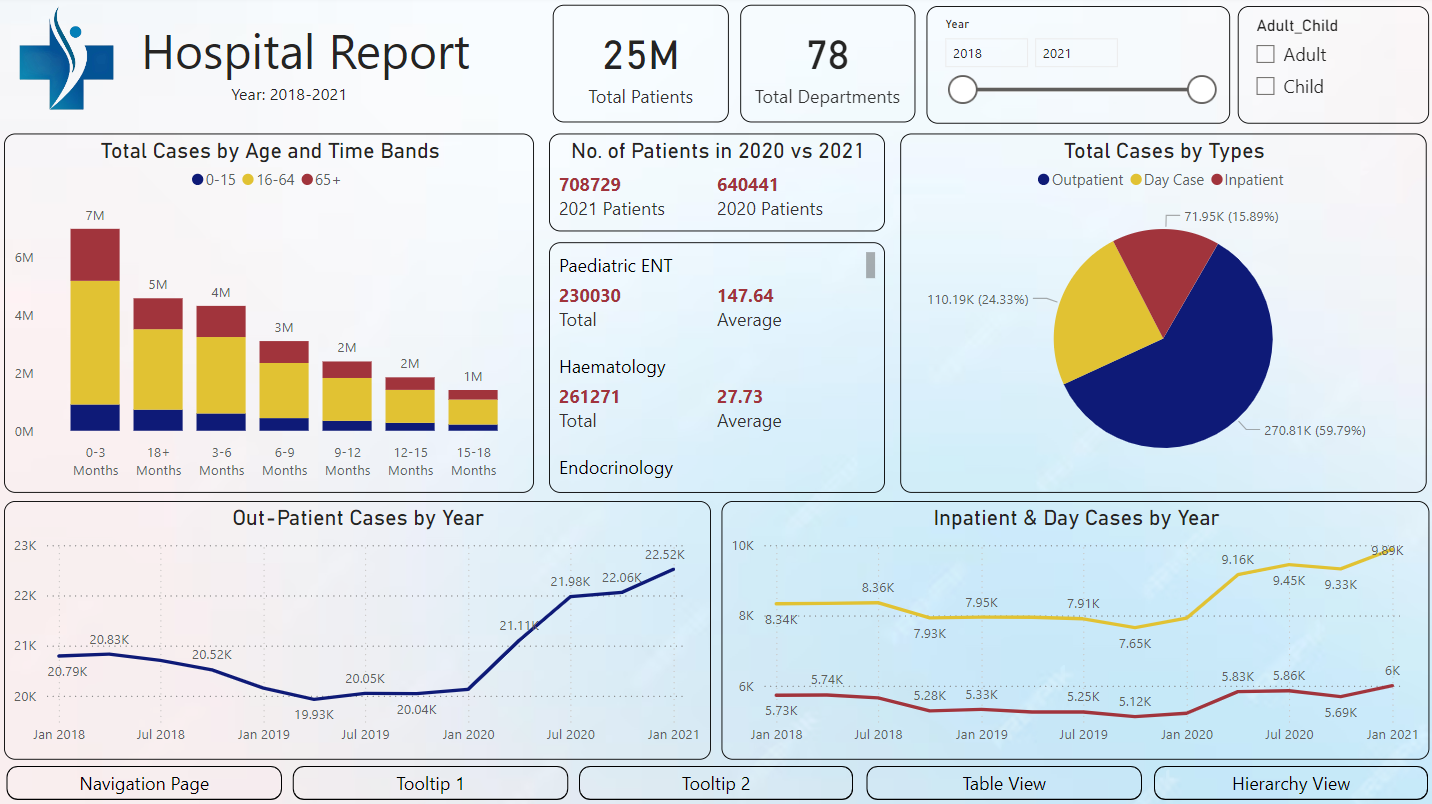

This screenshot's page, from the dashboard's own definition file:
{"tool":"powerbi","page":{"name":"Dashboard","canvas":[1280,720],"ordinal":1},"visuals":[{"type":"pieChart","title":"Total Cases by Types","fields":{"Category":["Overall Patient Data.Case_Type"],"Y":["CountNonNull(Overall Patient Data.Case_Type)"]},"box":[802.5,122.7,468.7,320.2],"z":0},{"type":"shape","box":[1029,686,244.2,30.2],"z":0,"group":"g1"},{"type":"card","fields":{"Values":["Measure Table.total Patient"]},"box":[493,8.1,157,105],"z":1000,"group":"g2"},{"type":"columnChart","title":"Total Cases by Age and Time Bands","fields":{"Category":["Overall Patient Data.Time_Bands"],"Y":["Sum(Overall Patient Data.Total)"],"Series":["Overall Patient Data.Age_Profile"]},"box":[4.9,122.7,472.4,320.2],"z":1000},{"type":"shape","box":[772.2,686,245.3,30.2],"z":1000,"group":"g1"},{"type":"multiRowCard","fields":{"Values":["Overall Patient Data.Specialty_Name","Sum(Overall Patient Data.Total)","Avg(Overall Patient Data.Total)"]},"box":[489.6,219.6,299.4,223.3],"z":2000},{"type":"shape","box":[517.2,686,244.2,30.2],"z":2000,"group":"g1"},{"type":"lineChart","title":"Inpatient & Day Cases by Year","fields":{"Category":["Overall Patient Data.Archive_Date.Variation.Date Hierarchy.Year","Overall Patient Data.Archive_Date.Variation.Date Hierarchy.Quarter","Overall Patient Data.Archive_Date.Variation.Date Hierarchy.Month","Overall Patient Data.Archive_Date.Variation.Date Hierarchy.Day"],"Series":["Overall Patient Data.Case_Type"],"Y":["CountNonNull(Overall Patient Data.Case_Type)"]},"box":[642.9,450,630.7,230],"z":3000},{"type":"shape","box":[6.9,686,245.3,30.2],"z":3000,"group":"g1"},{"type":"lineChart","title":"Out-Patient Cases by Year","fields":{"Category":["Overall Patient Data.Archive_Date.Variation.Date Hierarchy.Year","Overall Patient Data.Archive_Date.Variation.Date Hierarchy.Quarter","Overall Patient Data.Archive_Date.Variation.Date Hierarchy.Month","Overall Patient Data.Archive_Date.Variation.Date Hierarchy.Day"],"Series":["Overall Patient Data.Case_Type"],"Y":["CountNonNull(Overall Patient Data.Case_Type)"]},"box":[4.9,450,629.5,230],"z":4000},{"type":"shape","box":[262.2,686,245.3,30.2],"z":4000,"group":"g1"},{"type":"slicer","fields":{"Values":["Overall Patient Data.Archive_Date.Variation.Date Hierarchy.Year"]},"box":[825.8,8.6,270,105],"z":5000},{"type":"slicer","fields":{"Values":["Overall Patient Data.Adult_Child"]},"box":[1103.4,8.7,170.4,105],"z":6000},{"type":"multiRowCard","title":"No. of Patients in 2020 vs 2021","fields":{"Values":["Measure Table.last_month_patient_waiting_list","Measure Table.py_last_month_waiting_list"]},"box":[489.6,122.7,299.4,87.1],"z":7000},{"type":"textbox","box":[5,8.1,480,105.8],"z":8000},{"type":"card","fields":{"Values":["Count(Overall Patient Data.Specialty_Name)"]},"box":[660,8.1,155.8,105],"z":8000,"group":"g2"},{"type":"image","box":[0,0,122.1,123.3],"z":9000},{"type":"group","id":"g1","title":"Group 1","box":[6.9,686,1266.3,30.2],"z":10000},{"type":"group","id":"g2","title":"Group 2","box":[493,8.1,322.8,105],"z":11000}]}

Visuals, with their boxes in screenshot pixels (x1, y1, x2, y2), scaled from the page's 1280x720 canvas onto the 1432x804 screenshot:
"Total Cases by Types" pieChart: [898, 137, 1422, 495]
shape: [1151, 766, 1424, 800]
card - Measure Table.total Patient: [552, 9, 727, 126]
"Total Cases by Age and Time Bands" columnChart: [5, 137, 534, 495]
shape: [864, 766, 1138, 800]
multiRowCard - Overall Patient Data.Specialty_Name x Sum(Overall Patient Data.Total): [548, 245, 883, 495]
shape: [579, 766, 852, 800]
"Inpatient & Day Cases by Year" lineChart: [719, 502, 1425, 759]
shape: [8, 766, 282, 800]
"Out-Patient Cases by Year" lineChart: [5, 502, 710, 759]
shape: [293, 766, 568, 800]
slicer - Overall Patient Data.Archive_Date.Variation.Date Hierarchy.Year: [924, 10, 1226, 127]
slicer - Overall Patient Data.Adult_Child: [1234, 10, 1425, 127]
"No. of Patients in 2020 vs 2021" multiRowCard: [548, 137, 883, 234]
textbox: [6, 9, 543, 127]
card - Count(Overall Patient Data.Specialty_Name): [738, 9, 913, 126]
image: [0, 0, 137, 138]
"Group 1" group: [8, 766, 1424, 800]
"Group 2" group: [552, 9, 913, 126]
